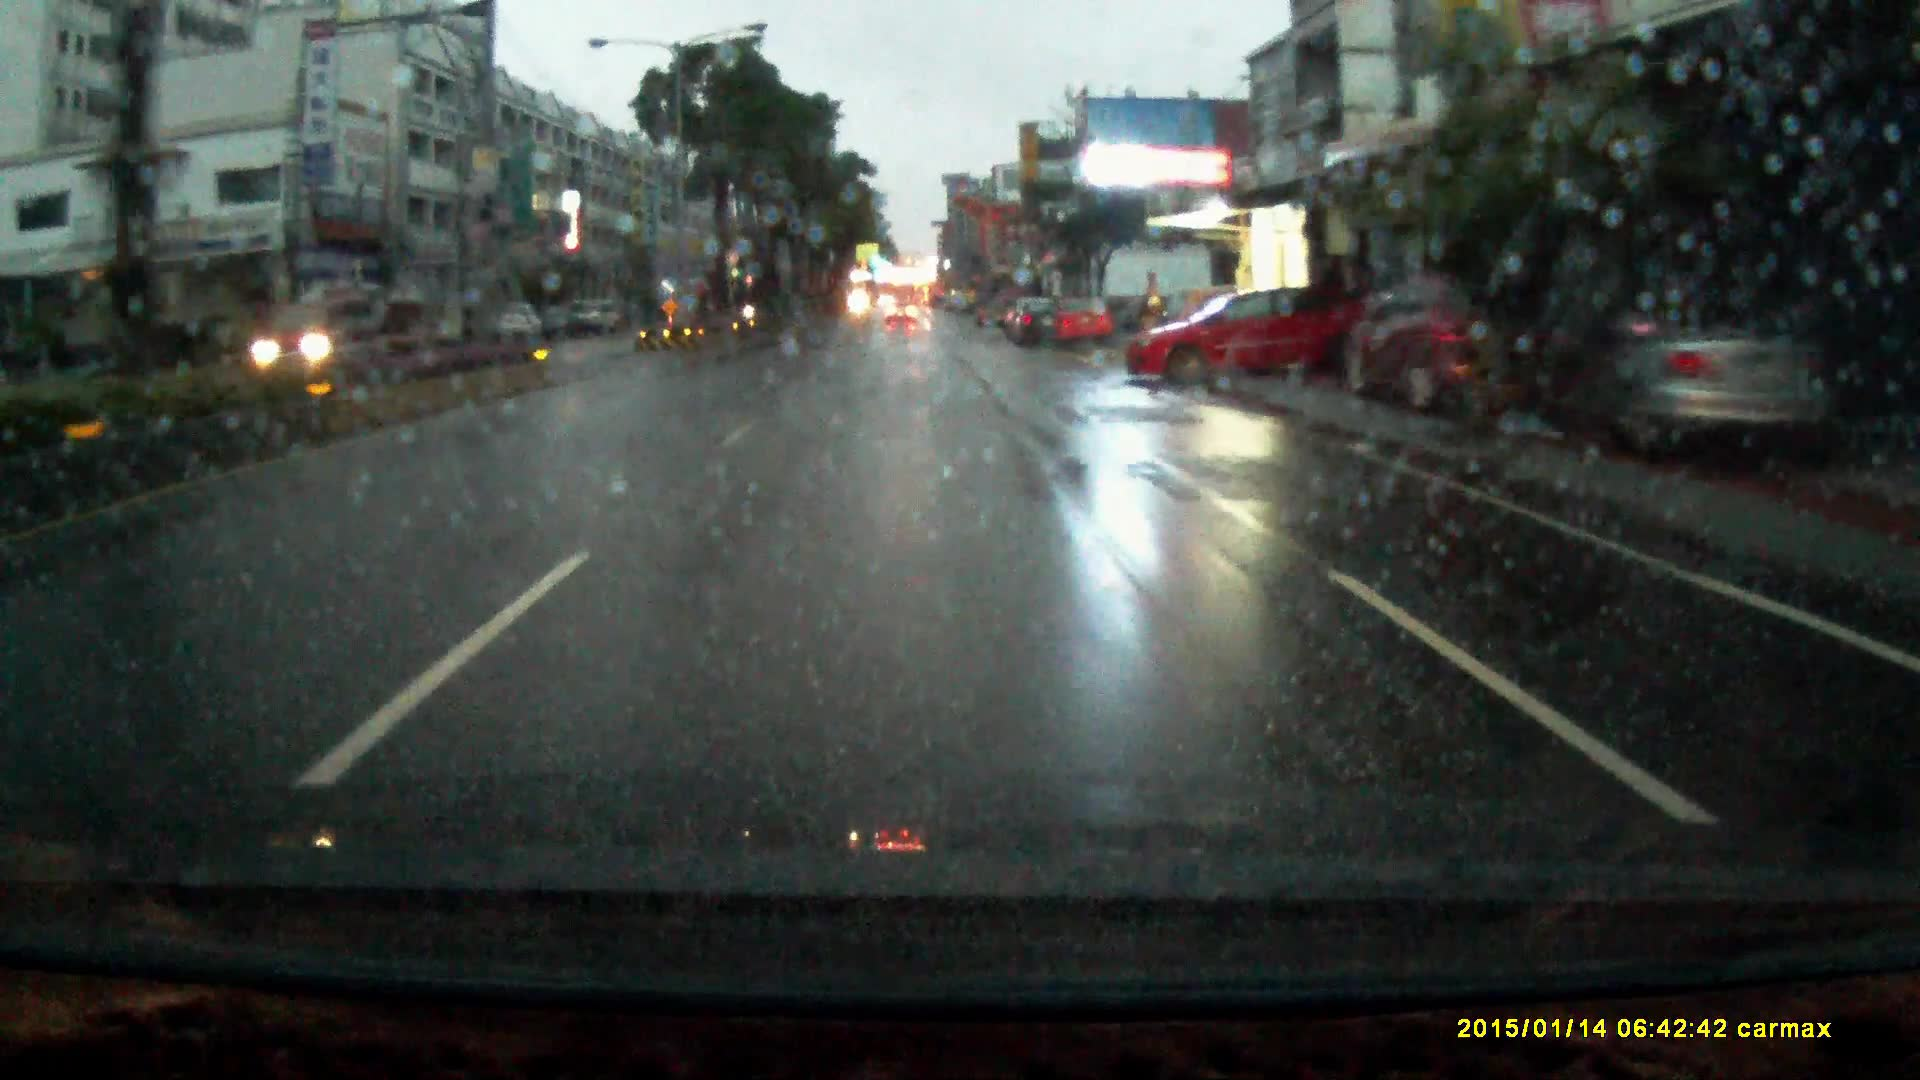vehicle: (1576, 294, 1836, 485), (1341, 276, 1589, 427), (1122, 291, 1374, 392), (239, 299, 380, 372), (1040, 302, 1118, 355), (1004, 302, 1064, 351), (570, 301, 622, 339), (886, 305, 916, 334)
